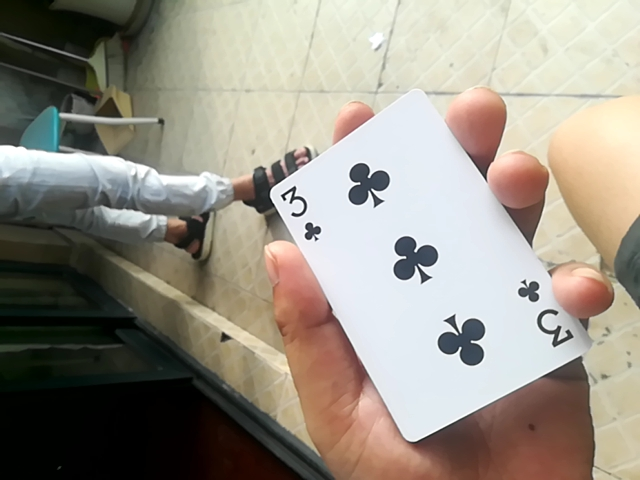mh 3: (273, 82, 583, 449)
